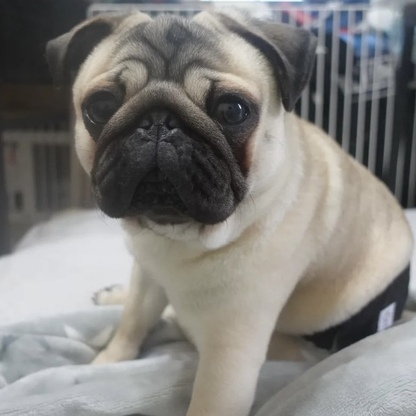Pug: (32, 3, 416, 416)
